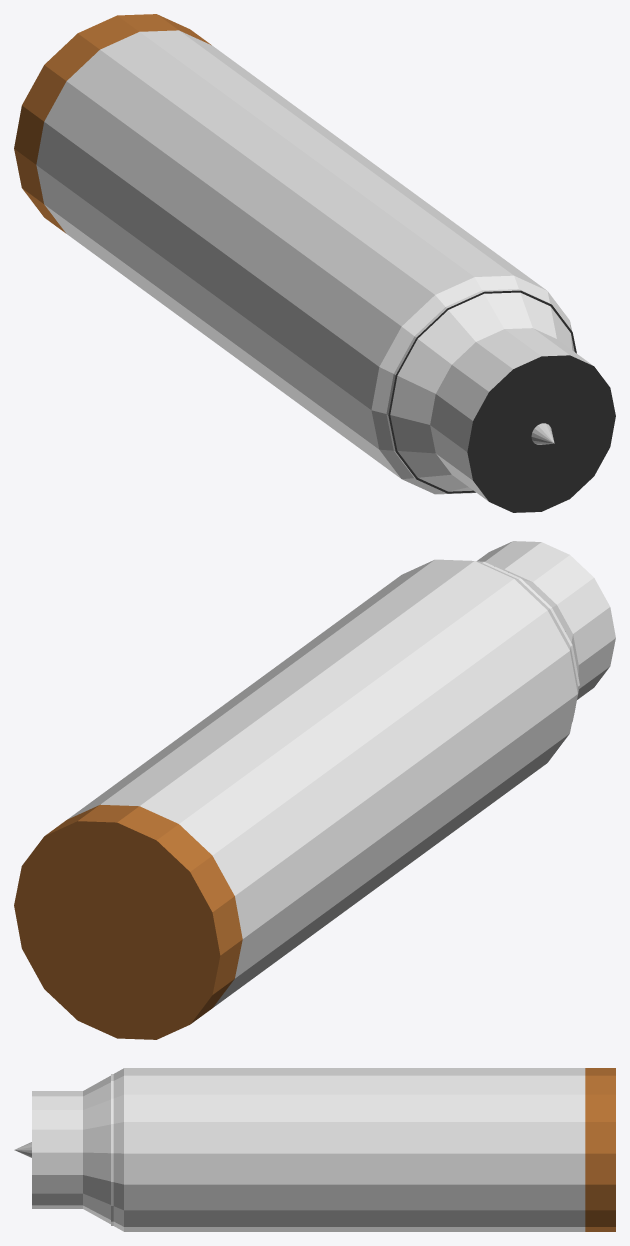
The model's file is conventional.glb.
The picture shows the model from 3 angles, top to bottom: view 1: azimuth 30°, elevation 25°; view 2: azimuth 150°, elevation 25°; view 3: azimuth 270°, elevation 25°; orthographic projection. The views are drawn at different scales.
Visible parts, largest first — view 1: 120_case, 155_case; view 2: 120_case; view 3: 120_case, 155_case.
Boxes of the visible parts, <box> form: 120_case: <box>14,14,615,512</box>; 155_case: <box>386,289,576,493</box>; 120_case: <box>14,541,615,1039</box>; 120_case: <box>32,1068,615,1231</box>; 155_case: <box>111,1074,113,1225</box>.
Size of the model in its own units: 0.04 by 0.04 by 0.1469.
